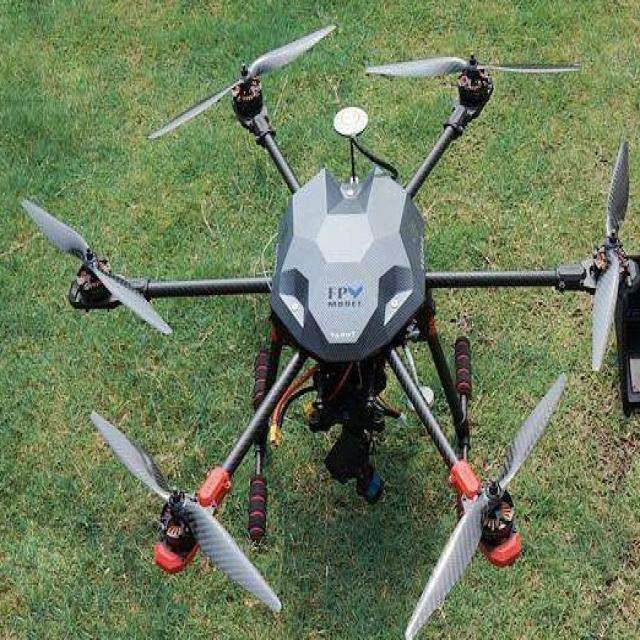drone: (16, 16, 640, 637)
